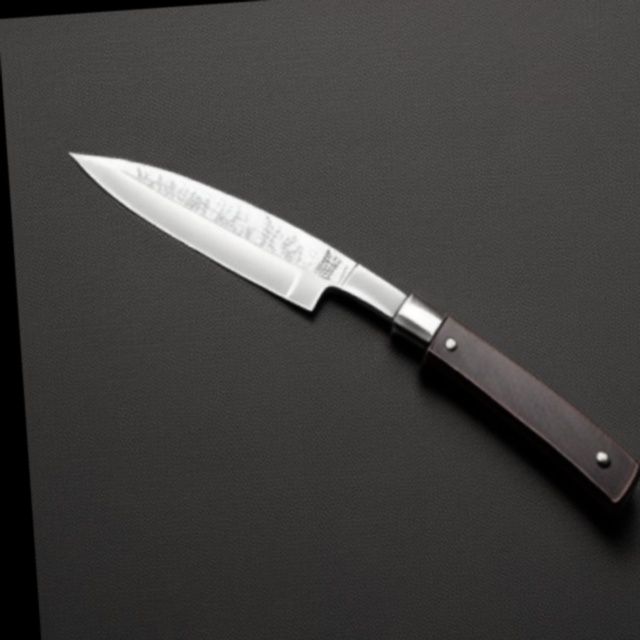Sharp-Object: (60, 106, 640, 559)
